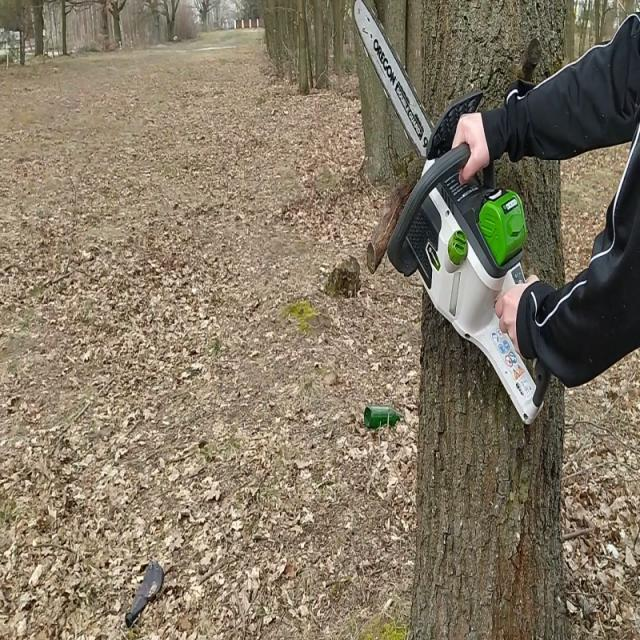Chainsaw: (346, 0, 560, 431)
